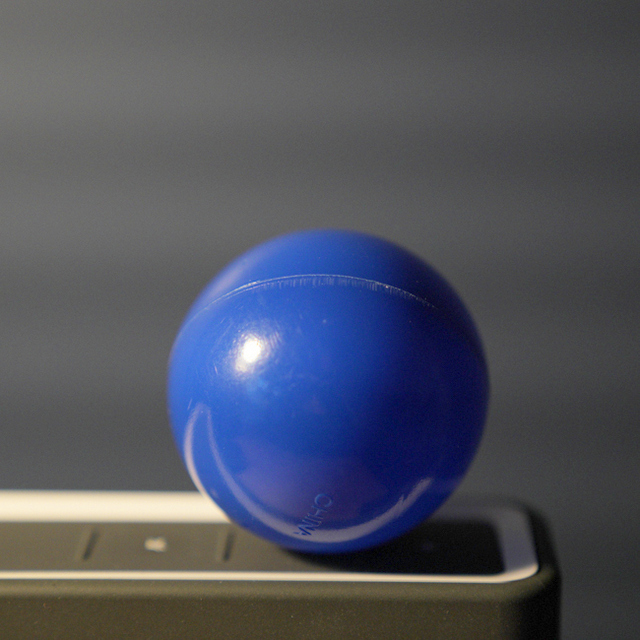Ball: (167, 228, 487, 557)
